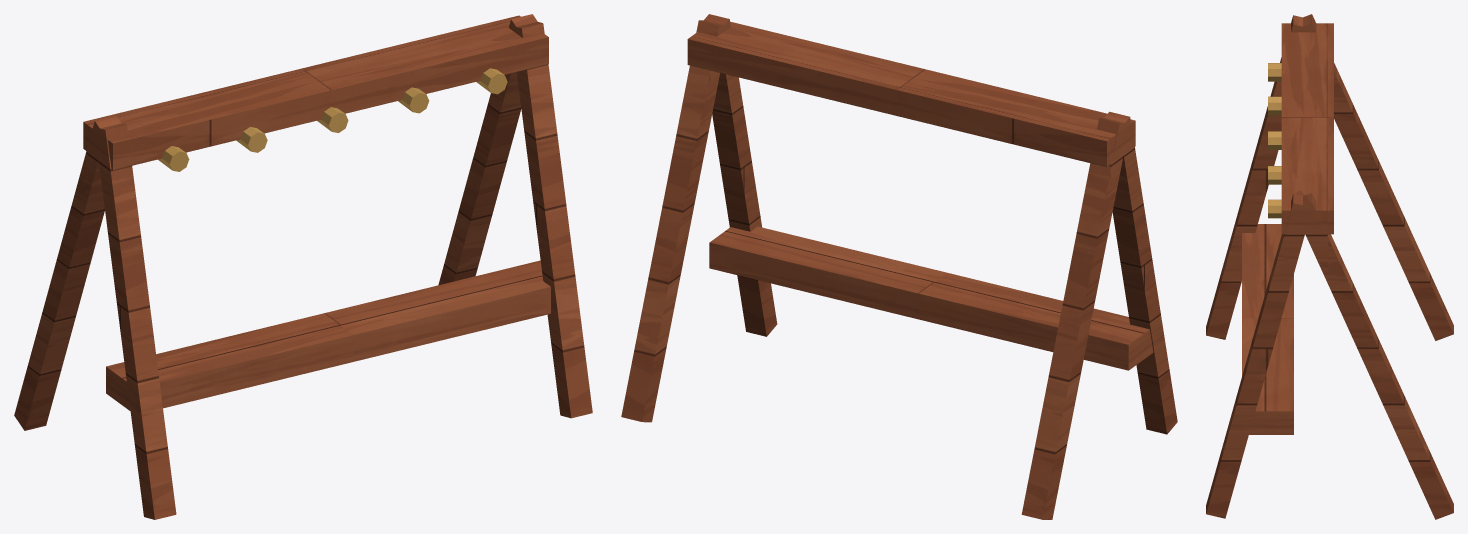
The model's file is SM_Theater_Prop_InstrumentRack.fbx.
3 views of the same model, side by side, from view 1: azimuth 30°, elevation 25°; view 2: azimuth 150°, elevation 25°; view 3: azimuth 270°, elevation 25° (orthographic). The views are drawn at different scales.
Visible parts, largest first — view 1: SM_Theater_Prop_InstrumentRack_LOD0; view 2: SM_Theater_Prop_InstrumentRack_LOD0; view 3: SM_Theater_Prop_InstrumentRack_LOD0.
Boxes of the visible parts, box(x1,y1,x2,y2) form: SM_Theater_Prop_InstrumentRack_LOD0: box(14, 14, 592, 519); SM_Theater_Prop_InstrumentRack_LOD0: box(621, 14, 1177, 519); SM_Theater_Prop_InstrumentRack_LOD0: box(1206, 14, 1453, 519).
Size of what is drawn, in the model's own units: 1.79 by 1.41 by 0.9957.
